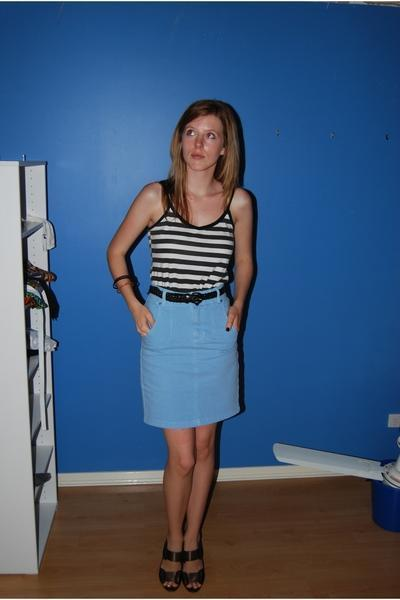shirt: (132, 198, 248, 297)
shoe: (159, 543, 207, 587)
skirt: (140, 283, 239, 428)
